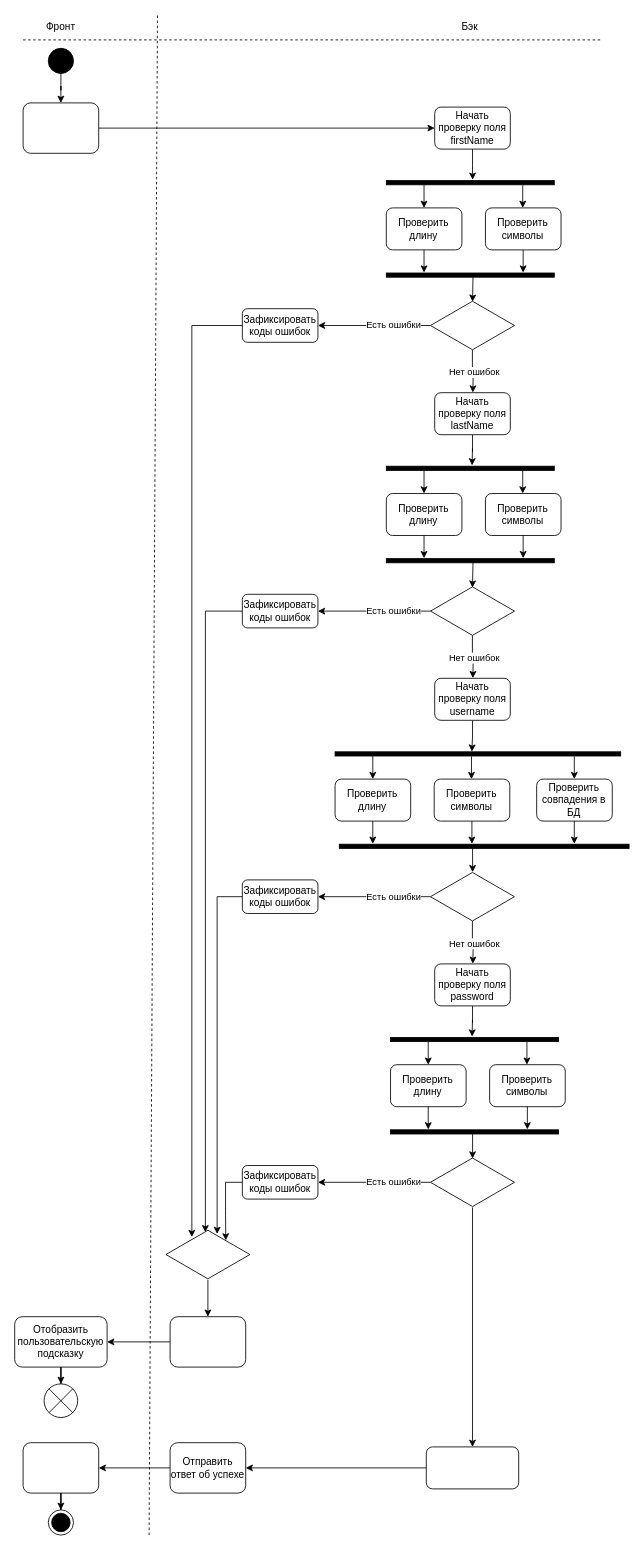
This 644x1551 diagram has some shape labels left out. Here are the shapes that lost their labels. From the top down, the centre of each, then its label:
point (60, 127): Отправить запрос на регистрацию пользователя
point (207, 1341): Отправить ответ по ошибке
point (60, 1467): Отобразить уведомление о регистрации
point (472, 1467): Сохранить пользователя в БД
